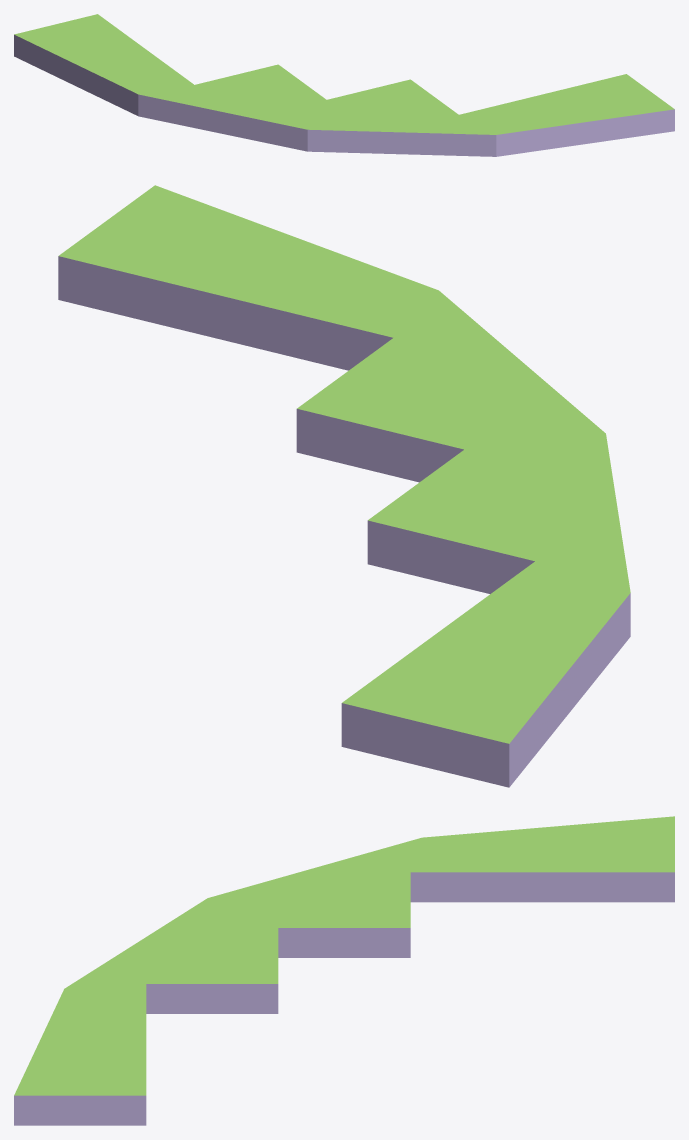
The model's file is Tiered_Grass_Curve_Outer_5x5.fbx.
3 renders of one model, top to bottom at view 1: azimuth 30°, elevation 25°; view 2: azimuth 150°, elevation 25°; view 3: azimuth 270°, elevation 25°, orthographic. The views are drawn at different scales.
Parts seen in each view (by area): view 1: Tiered_Grass_Curve_Outer_5x5; view 2: Tiered_Grass_Curve_Outer_5x5; view 3: Tiered_Grass_Curve_Outer_5x5.
Boxes of the visible parts, left/top/right/bottom form: Tiered_Grass_Curve_Outer_5x5: left=14, top=14, right=674, bottom=156; Tiered_Grass_Curve_Outer_5x5: left=58, top=185, right=630, bottom=787; Tiered_Grass_Curve_Outer_5x5: left=14, top=816, right=674, bottom=1125.
Bounding box in the file's own units: 500 × 25 × 500.
